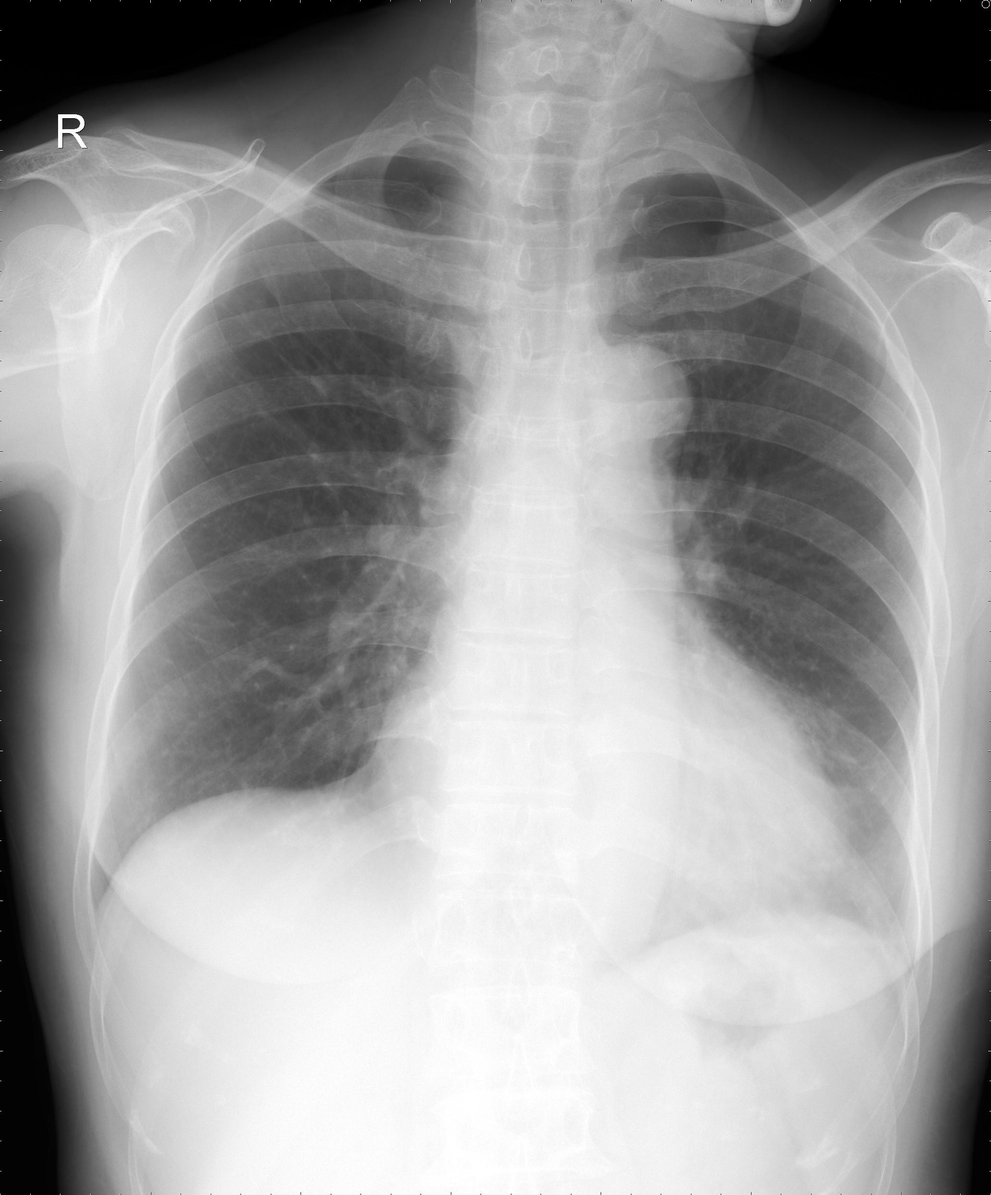Aortic enlargement: (565, 347, 691, 470)
Cardiomegaly: (369, 706, 858, 858)
